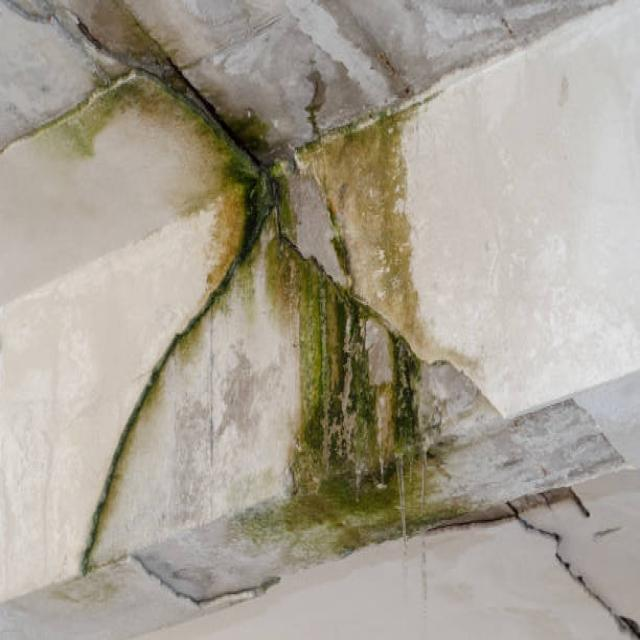Crack: (87, 179, 274, 572), (20, 2, 268, 182), (275, 204, 452, 389), (503, 491, 639, 637)
